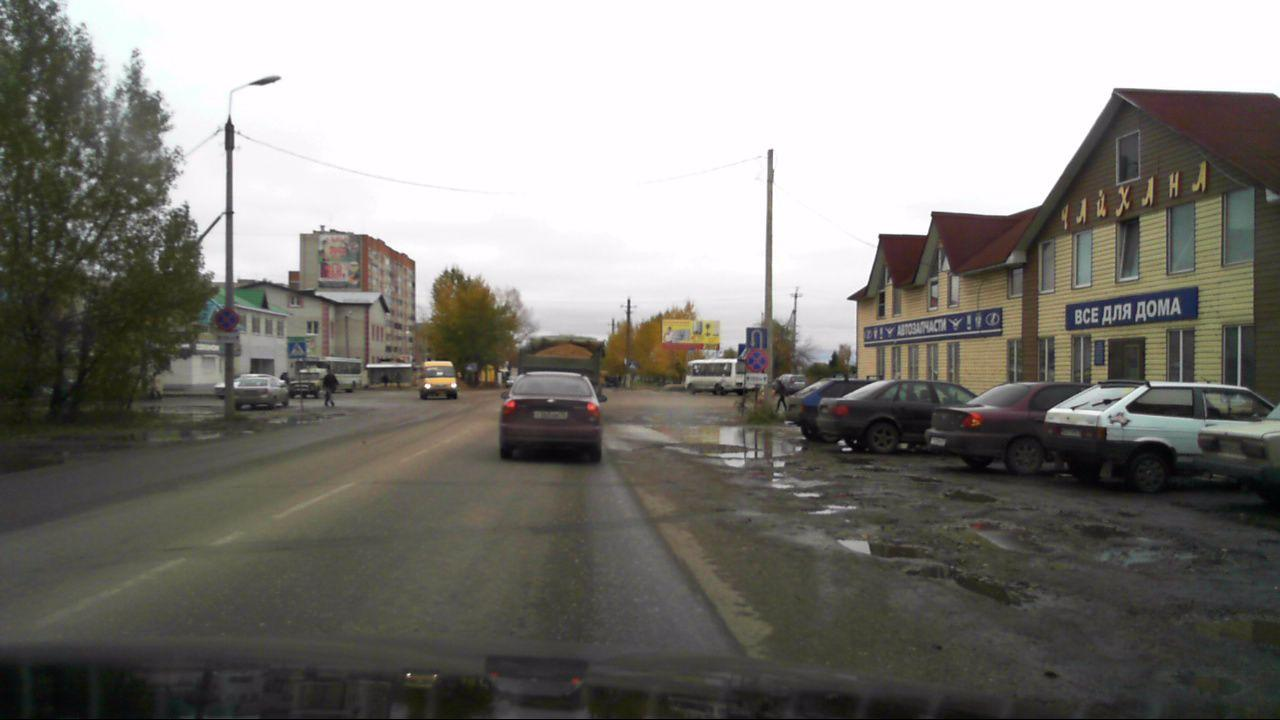3_27: (214, 308, 239, 331), (746, 349, 769, 372)
5_19_2: (287, 341, 307, 358)
6_3_1: (746, 327, 766, 349)
8_2_1: (745, 373, 767, 384)
8_3_1: (215, 333, 240, 344)
